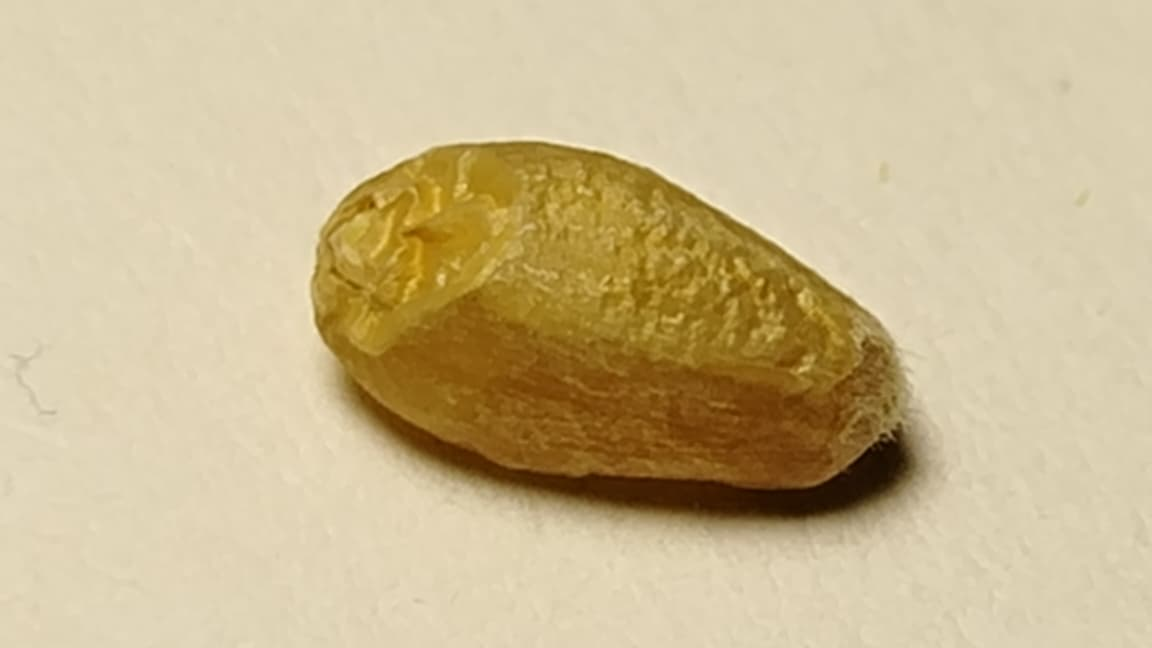healthy: (313, 142, 896, 485)
